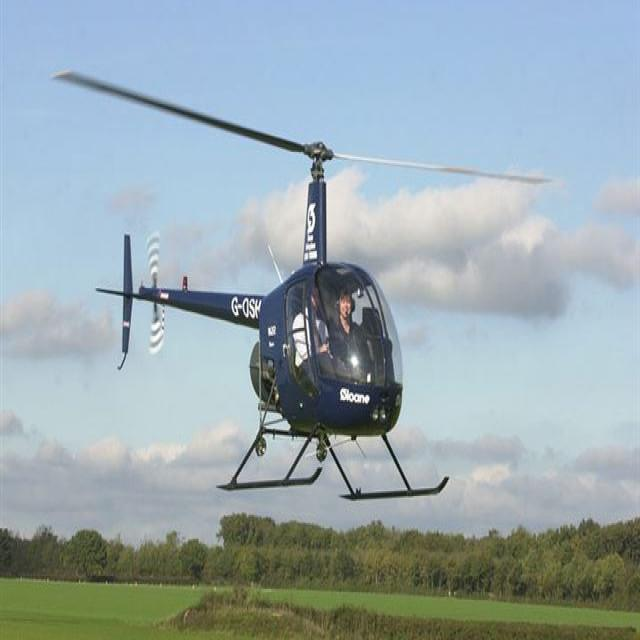helicopter: (52, 75, 535, 500)
